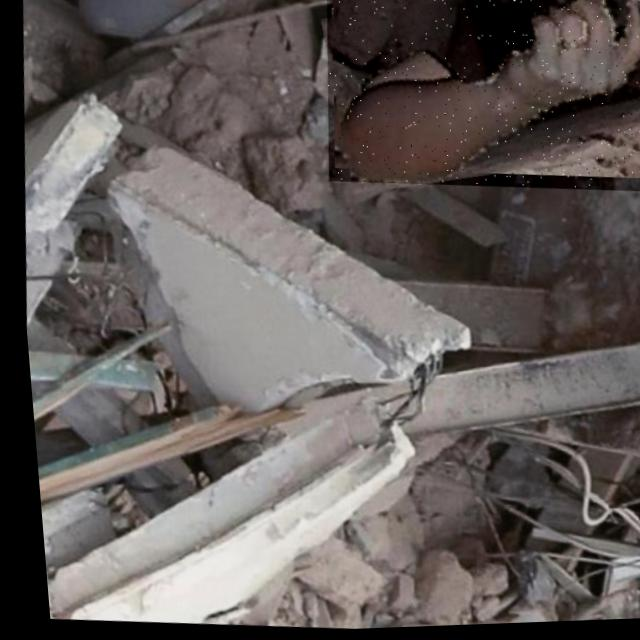Person in Rubble: (311, 0, 640, 206)
